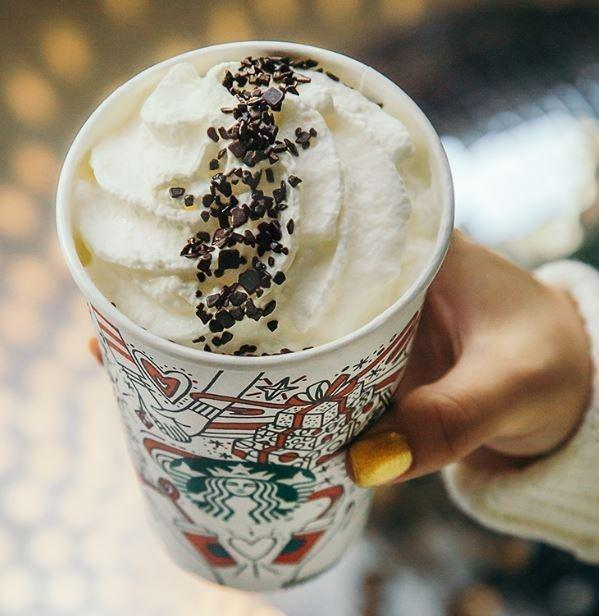cup-disposable: (55, 40, 454, 597)
